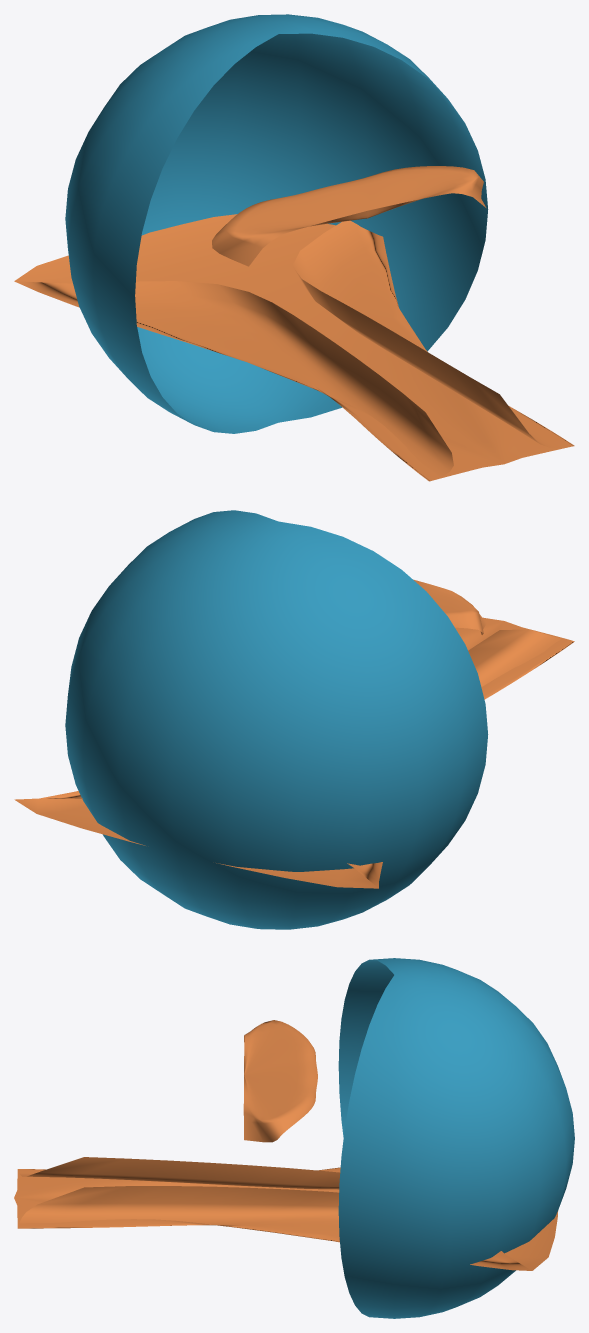
The model's file is background.fbx.
3 views of the same model, one above another, from view 1: azimuth 30°, elevation 25°; view 2: azimuth 150°, elevation 25°; view 3: azimuth 270°, elevation 25° (orthographic). The views are drawn at different scales.
Parts seen in each view (by area): view 1: pSphere1, nurbsToPoly1, nurbsToPoly2; view 2: pSphere1, nurbsToPoly1, nurbsToPoly2; view 3: pSphere1, nurbsToPoly1, nurbsToPoly2.
Boxes of the visible parts, x1=… form: pSphere1: x1=65, y1=14, x2=488, y2=433; nurbsToPoly1: x1=14, y1=214, x2=574, y2=481; nurbsToPoly2: x1=212, y1=166, x2=486, y2=266; pSphere1: x1=65, y1=510, x2=488, y2=929; nurbsToPoly1: x1=14, y1=617, x2=574, y2=888; nurbsToPoly2: x1=413, y1=579, x2=486, y2=634; pSphere1: x1=338, y1=958, x2=574, y2=1318; nurbsToPoly1: x1=14, y1=1157, x2=558, y2=1270; nurbsToPoly2: x1=243, y1=1020, x2=317, y2=1142.
Bounding box in the file's own units: 9.14 × 9.14 × 14.21.
